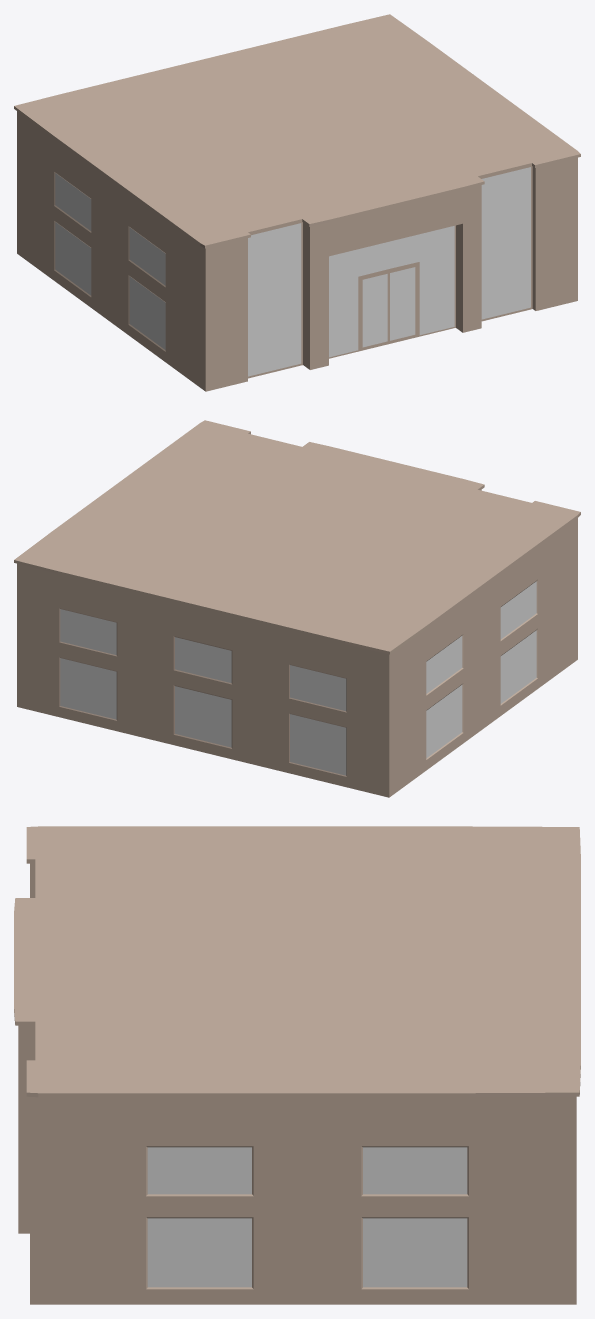
File: Office.fbx
3 renders of one model, top to bottom at view 1: azimuth 30°, elevation 25°; view 2: azimuth 150°, elevation 25°; view 3: azimuth 270°, elevation 25°, orthographic. The views are drawn at different scales.
Parts seen in each view (by area): view 1: Office; view 2: Office; view 3: Office.
Part boxes in pixels (x1,y1,x2,y2): Office: (14,14,580,391); Office: (14,420,580,797); Office: (14,826,580,1304).
Size of the model in its own units: 1608 by 599 by 1445.
